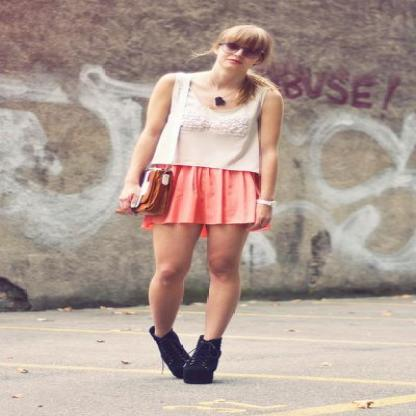bag: (116, 174, 174, 218)
shirt: (151, 72, 272, 174)
shoe: (150, 326, 220, 384)
skirt: (144, 158, 276, 230)
